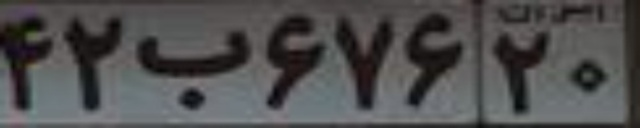0: (567, 59, 612, 94)
2: (62, 16, 118, 110), (490, 29, 549, 114)
4: (0, 15, 55, 111)
6: (262, 14, 324, 108), (404, 13, 460, 107)
7: (334, 17, 398, 110)
be: (136, 30, 250, 111)
